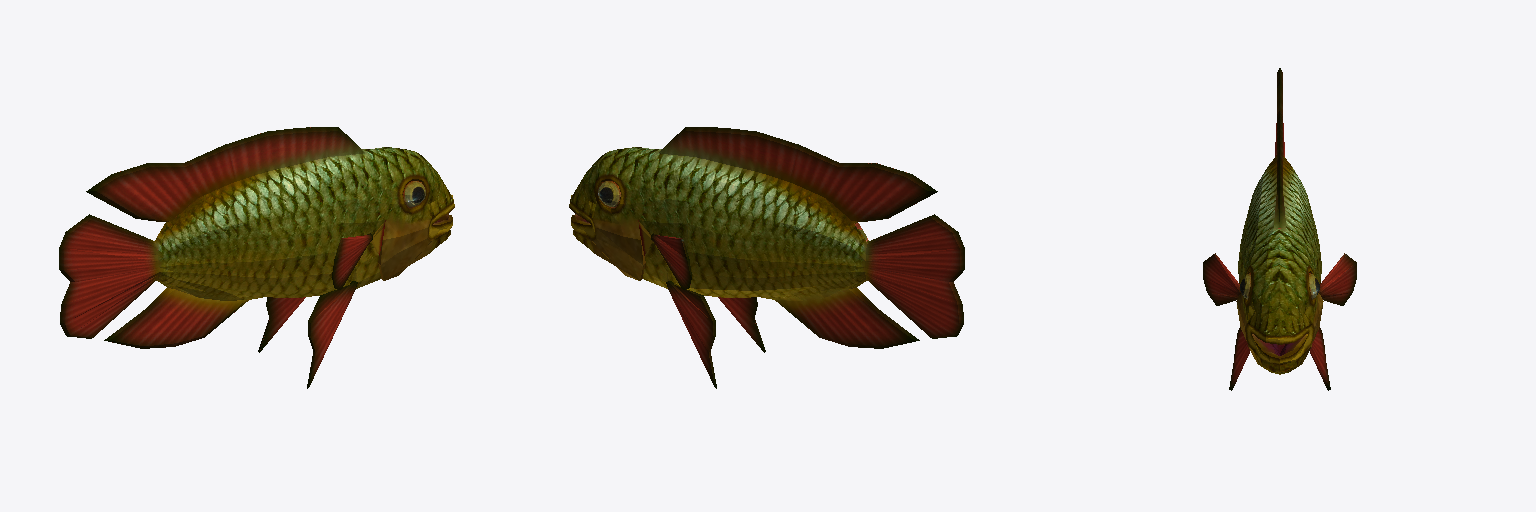
The picture shows the model from 3 angles: view 1: azimuth 30°, elevation 25°; view 2: azimuth 150°, elevation 25°; view 3: azimuth 270°, elevation 25°; orthographic projection.
Visible parts, largest first — view 1: Default; view 2: Default; view 3: Default.
Boxes of the visible parts, x1,y1,x2,y2 form: Default: [59, 127, 454, 388]; Default: [569, 127, 964, 388]; Default: [1203, 68, 1356, 390].
Size of the model in its own units: 11 by 6.5 by 3.74.
Materials: 1 (1 with a texture image).